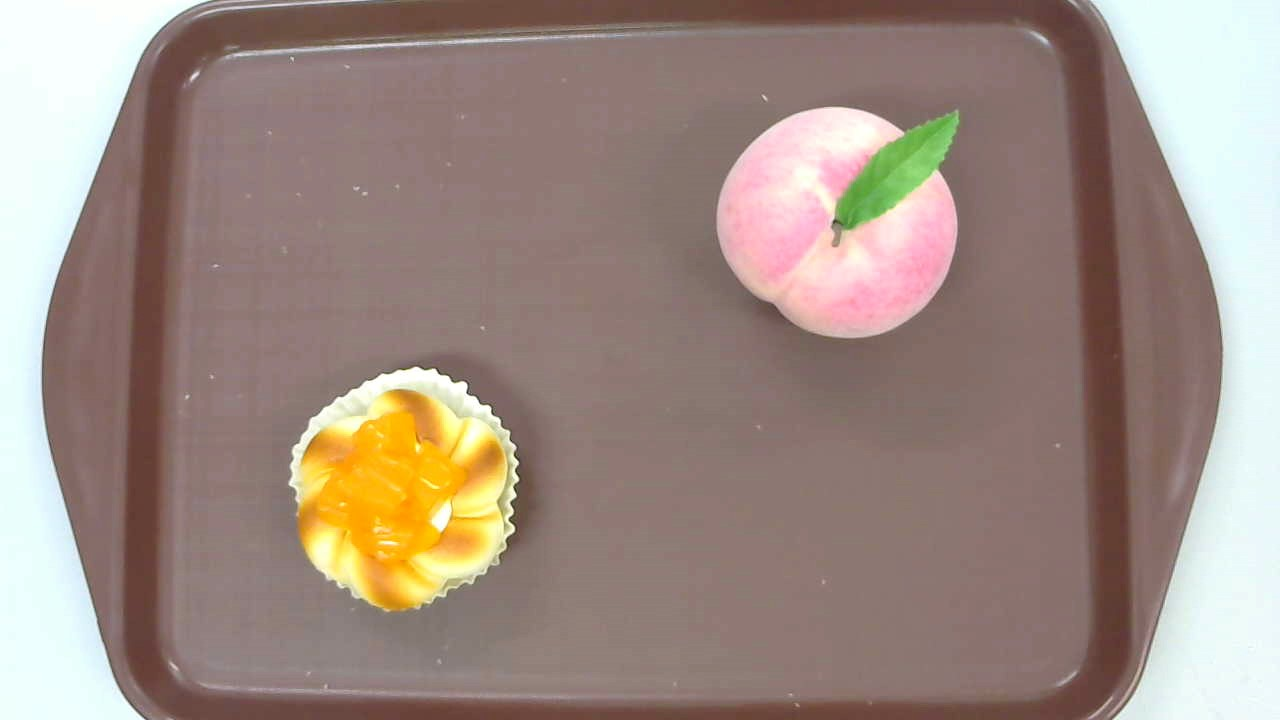mango tart: (285, 366, 522, 614)
peach: (716, 105, 960, 341)
